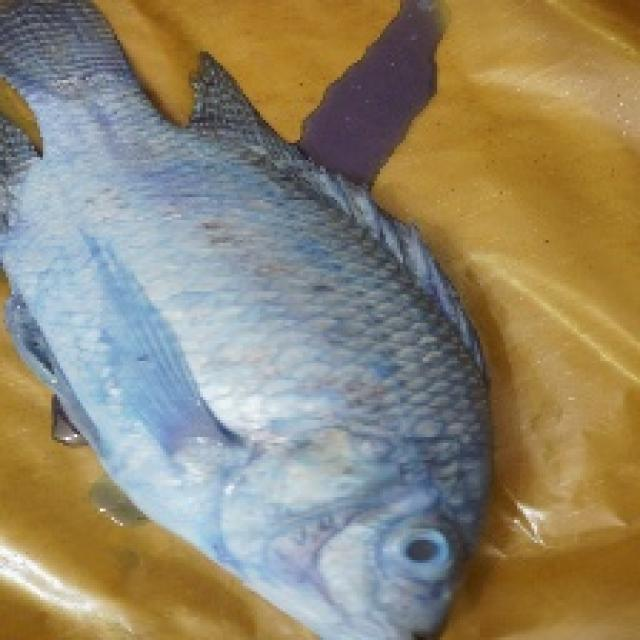Non-Fresh: (50, 194, 480, 518), (383, 518, 459, 591)
